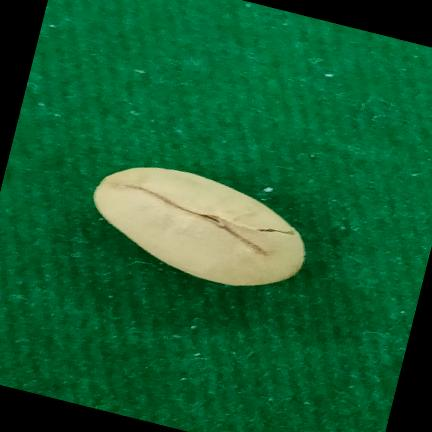parchment: (93, 167, 304, 285)
